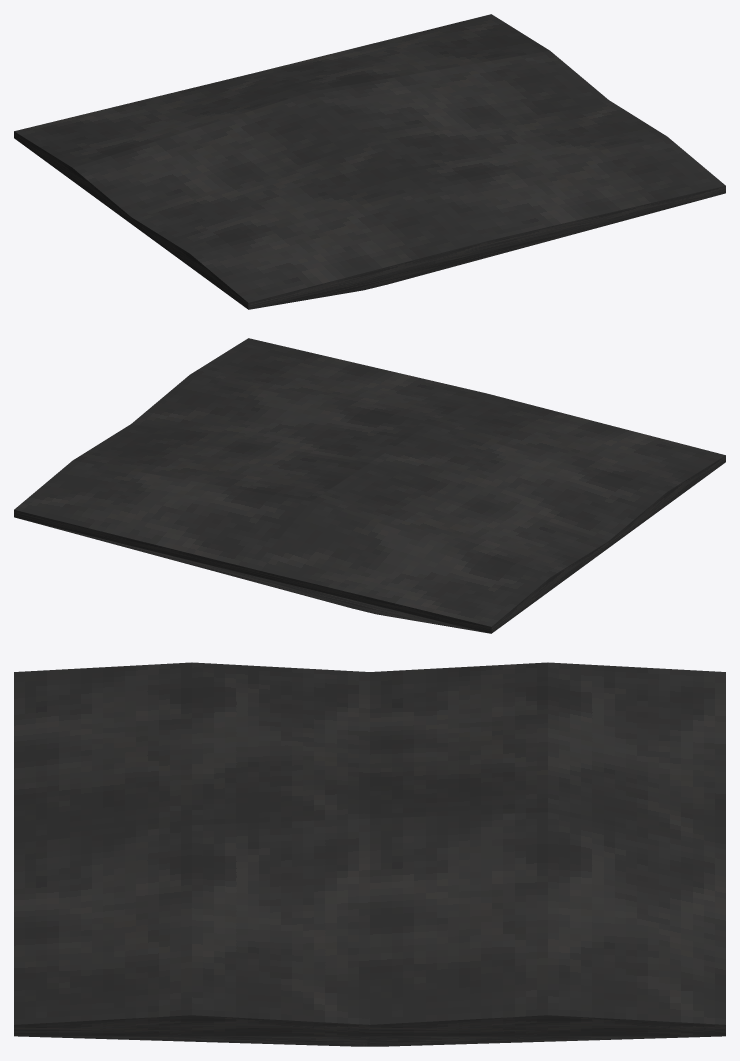
File: vRock_Floor.glb
3 renders of one model, top to bottom at view 1: azimuth 30°, elevation 25°; view 2: azimuth 150°, elevation 25°; view 3: azimuth 270°, elevation 25°, orthographic. The views are drawn at different scales.
Parts seen in each view (by area): view 1: vFloor-col; view 2: vFloor-col; view 3: vFloor-col.
Part boxes in pixels (x1,y1,x2,y2): vFloor-col: [14, 14, 725, 309]; vFloor-col: [14, 338, 725, 633]; vFloor-col: [14, 662, 725, 1046].
Bounding box in the file's own units: 8.56 × 2.54 × 7.28.
1 material, 1 textured.
